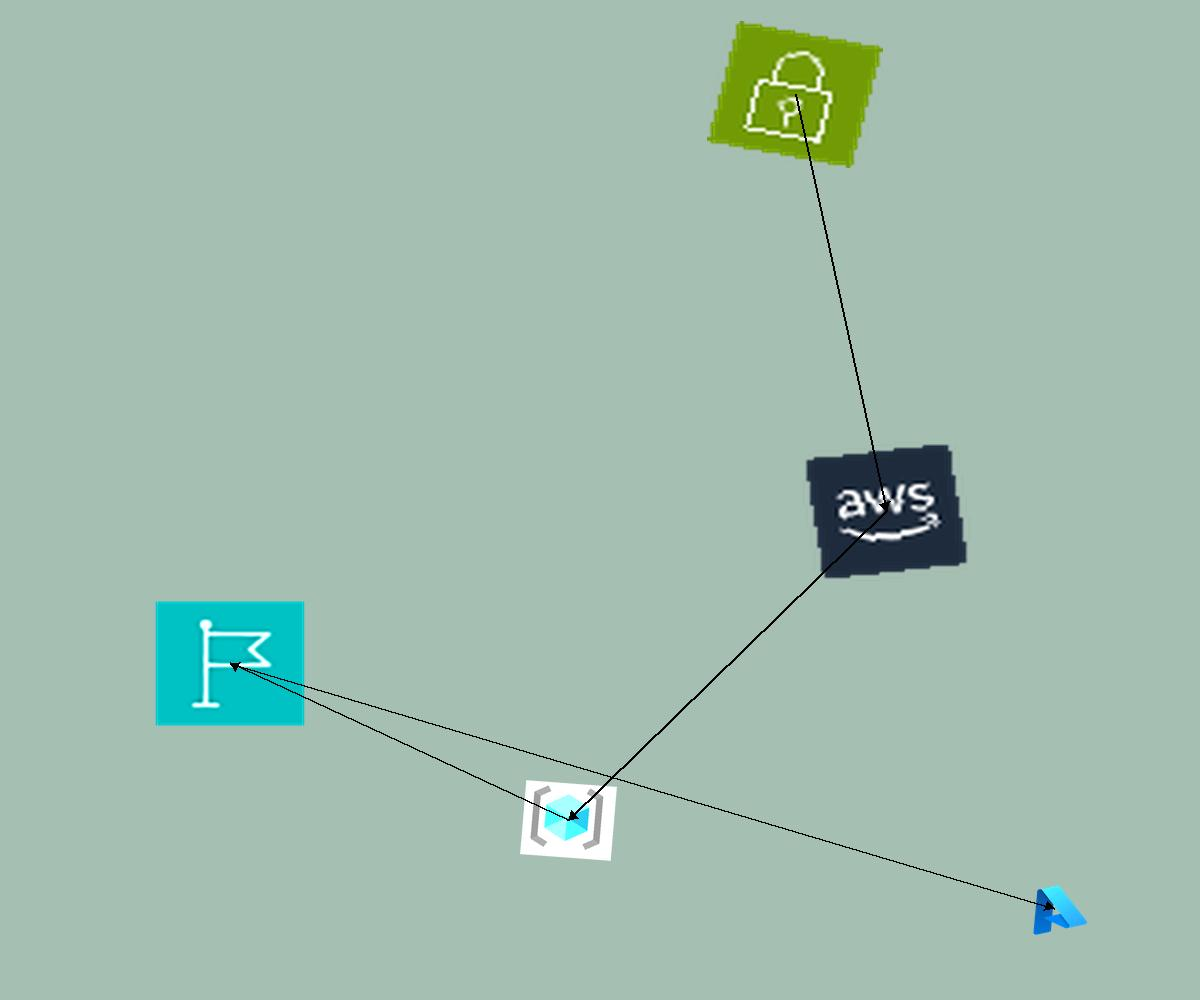AWS-Cloud-logo: (803, 442, 970, 581)
AWS-Public-subnet: (707, 21, 883, 168)
AWS-Region: (154, 600, 306, 727)
Azure_resource_group: (520, 780, 617, 861)
Azure_services: (1018, 878, 1091, 939)
